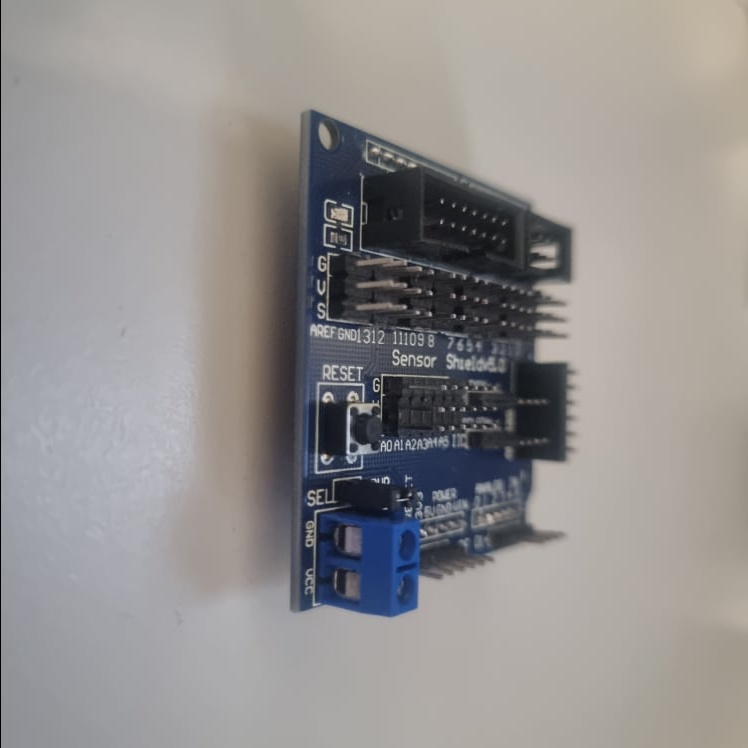5V EXPANSION: (291, 108, 592, 623)
